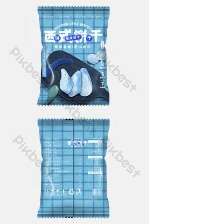snack: (29, 112, 116, 221), (30, 0, 116, 110)
